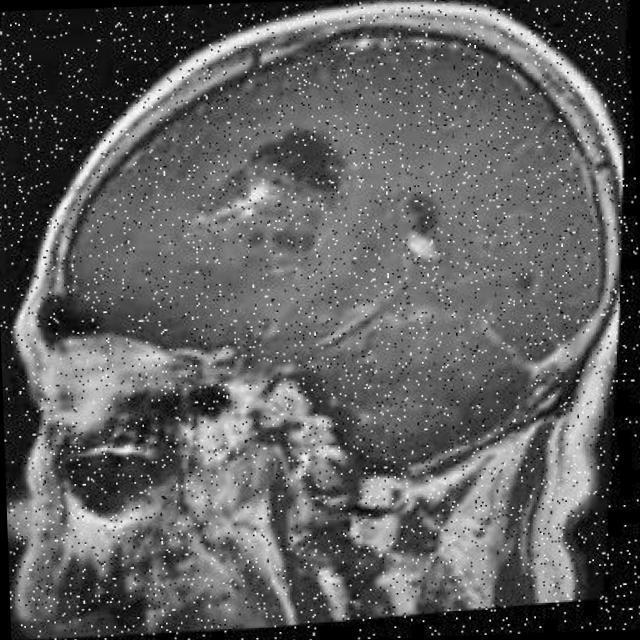LMCI: (186, 132, 360, 258)
